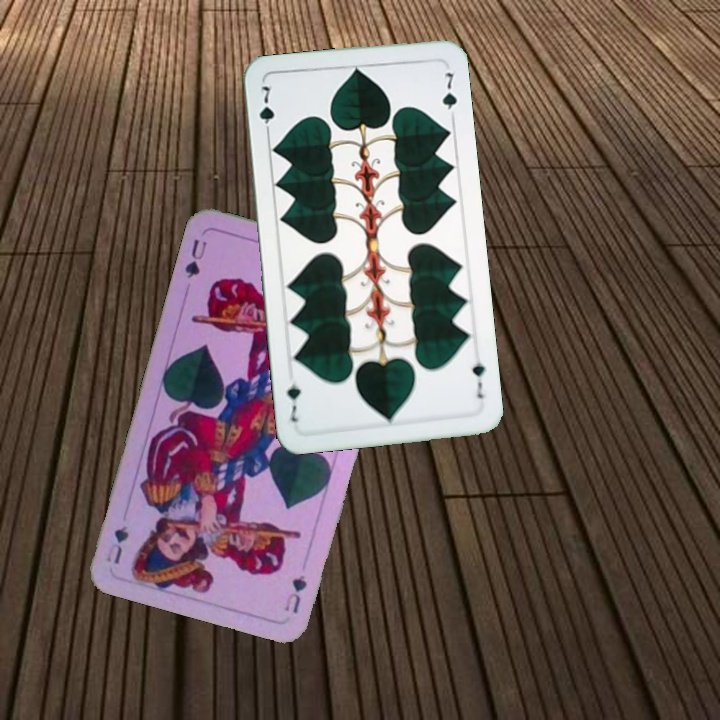G7: (255, 80, 277, 140), (468, 350, 488, 401)
GU: (180, 234, 210, 281), (280, 571, 310, 616)
